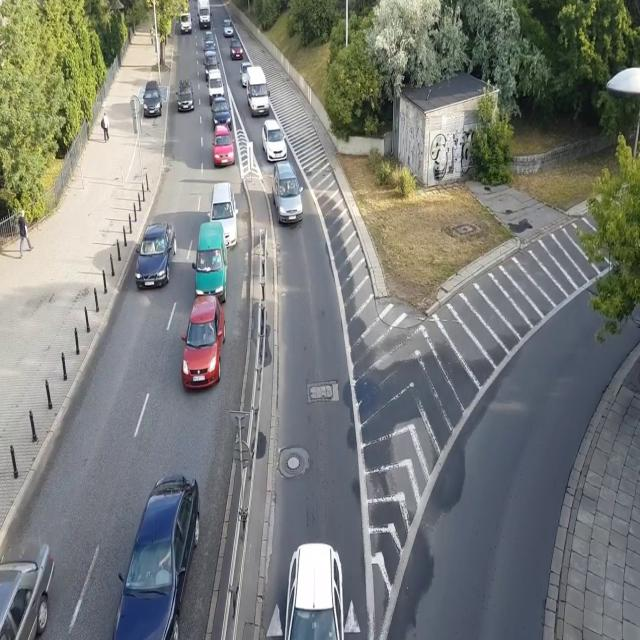car: (110, 473, 201, 640), (283, 541, 345, 640), (0, 537, 56, 640), (181, 295, 226, 391), (134, 220, 178, 291), (208, 181, 239, 249), (261, 118, 288, 162), (211, 125, 235, 167), (142, 80, 162, 118), (210, 98, 232, 130), (175, 77, 195, 112), (240, 62, 253, 88), (230, 37, 244, 60), (222, 19, 235, 39), (203, 41, 217, 53), (203, 31, 216, 42)
truck: (196, 0, 211, 31), (180, 6, 192, 34)
van: (191, 222, 228, 304), (272, 160, 304, 226), (246, 66, 271, 117)
